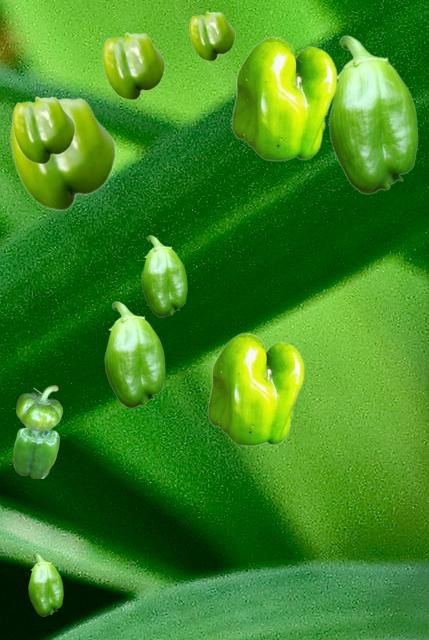bell_pepper: (328, 35, 417, 193), (231, 36, 336, 160), (10, 96, 115, 210), (207, 332, 303, 445), (104, 301, 164, 407), (102, 32, 164, 99), (12, 96, 74, 163), (141, 235, 186, 316), (13, 427, 58, 477), (189, 11, 234, 60), (28, 553, 62, 615), (16, 385, 61, 430)
